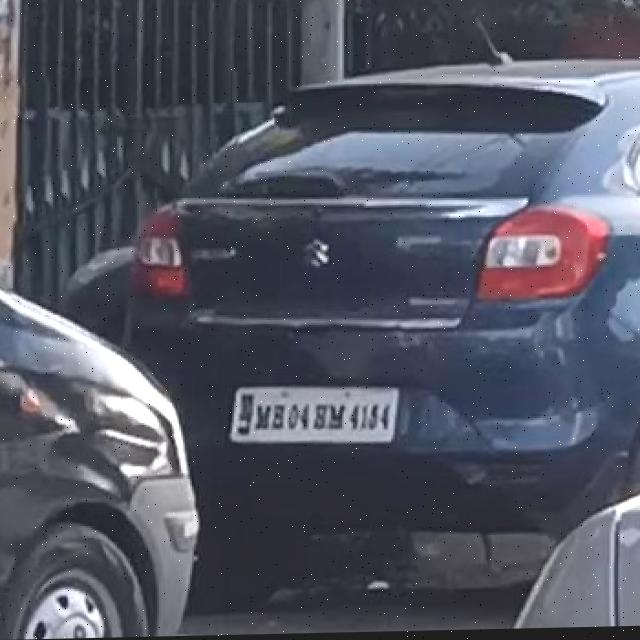plate: (229, 384, 401, 449)
